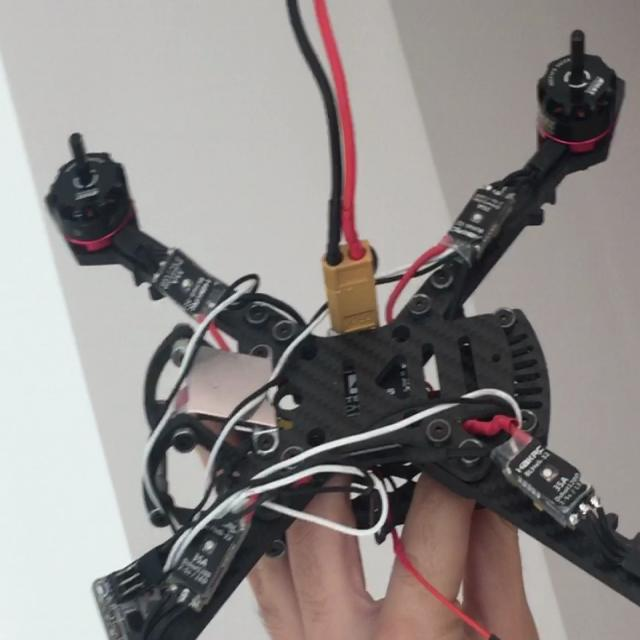drone: (4, 45, 640, 639)
